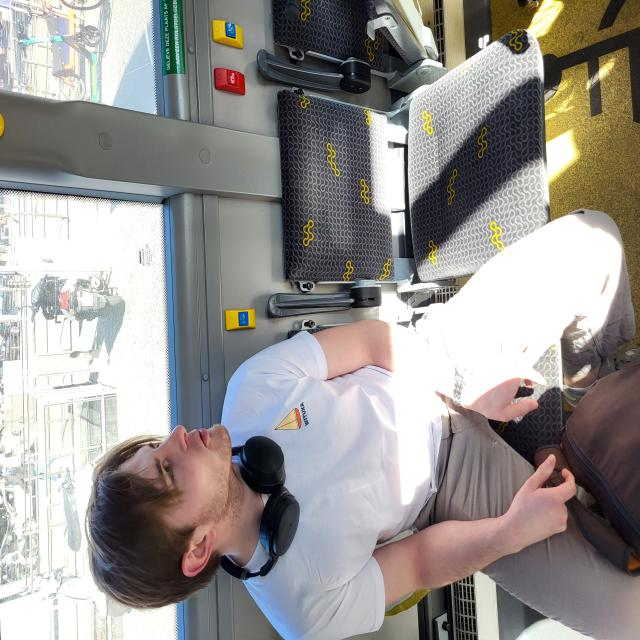asiento-libre: (241, 343, 461, 640), (410, 342, 480, 597)
